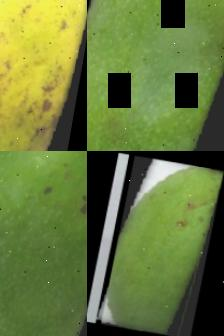Ripe: (0, 0, 87, 151)
Unripe: (99, 153, 224, 336), (87, 0, 224, 151), (0, 151, 87, 336)
